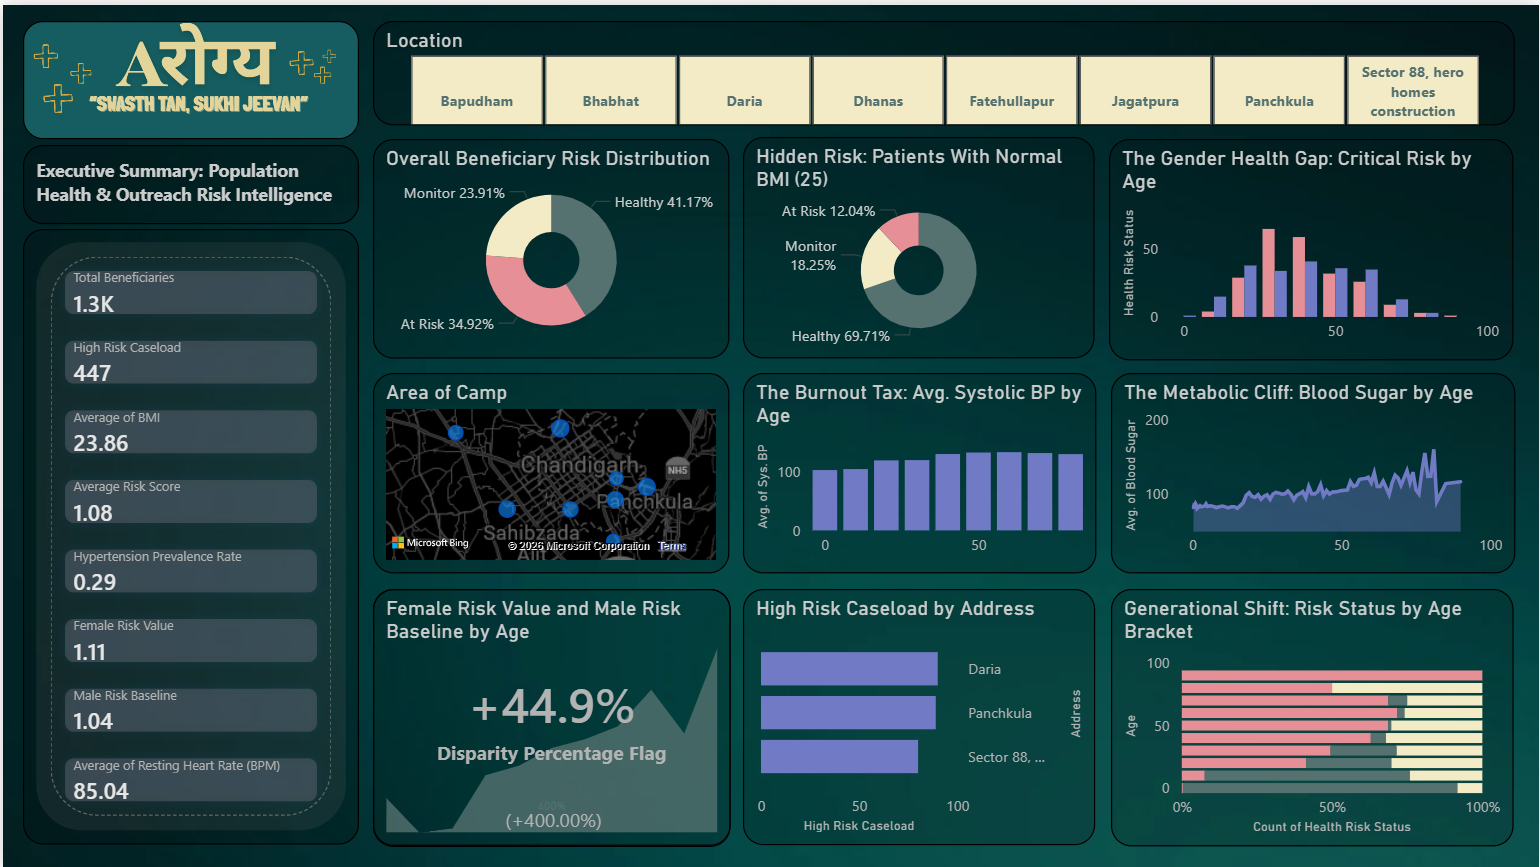

The page's visual inventory and layout, read from the dashboard file:
{"tool":"powerbi","page":{"name":"Page 1","canvas":[1280,720],"ordinal":0},"visuals":[{"type":"donutChart","title":"Overall Beneficiary Risk Distribution","fields":{"Category":["Sheet1.Health Risk Status"],"Y":["CountNonNull(Sheet1.Health Risk Status)"]},"box":[308.6,111.4,297.1,182.9],"z":0},{"type":"hundredPercentStackedBarChart","title":"Generational Shift: Risk Status by Age Bracket","fields":{"Category":["Sheet1.Age (bins)"],"Y":["CountNonNull(Sheet1.Health Risk Status)"],"Series":["Sheet1.Health Risk Status"]},"box":[922.7,486.4,335.5,214.5],"z":1000},{"type":"lineChart","title":"The Metabolic Cliff: Blood Sugar by Age","fields":{"Category":["Sheet1.Age"],"Y":["Avg(Sheet1.Blood Sugar)"]},"box":[922.9,307.1,337.1,167.1],"z":2000},{"type":"clusteredColumnChart","title":"The Gender Health Gap: Critical Risk by Age","fields":{"Category":["Sheet1.Age (bins)"],"Series":["Sheet1.Gender"],"Y":["CountNonNull(Sheet1.Health Risk Status)"]},"box":[921.4,111.4,337.1,184.3],"z":3000},{"type":"slicer","title":"Location","fields":{"Values":["Sheet1.Address"]},"box":[308.6,12.9,951.4,87],"z":4000},{"type":"map","title":"Area of Camp","fields":{"Y":["Sheet1 (4).Latitude"],"X":["Sheet1 (4).Longitute"],"Size":["CountNonNull(Sheet1.Health Risk Status)"]},"box":[308.6,307.1,297.1,167.1],"z":5000},{"type":"donutChart","title":"Hidden Risk: Patients With Normal BMI (25)","fields":{"Category":["Sheet1.Health Risk Status"],"Y":["CountNonNull(Sheet1.Health Risk Status)"]},"box":[616.7,110,292.9,184.3],"z":6000},{"type":"clusteredColumnChart","title":"The Burnout Tax: Avg. Systolic BP by Age","fields":{"Category":["Sheet1.Age (bins)"],"Y":["Avg(Sheet1.Systolic BP)"]},"box":[617.1,307.1,294.3,167.1],"z":7000},{"type":"cardVisual","fields":{"Data":["_Calculated Measures.'Total_Beneficiaries'","_Calculated Measures.High_Risk_Caseload","Avg(Sheet1 (4).BMI)","_Calculated Measures.Avg_Risk_Score","_Calculated Measures.Hypertension_Prevalence_Rate","_Calculated Measures.Female_Risk_Value","_Calculated Measures.Male_Risk_Baseline","Avg(Sheet1 (4).Resting Heart Rate (BPM))"]},"box":[17.1,187.1,280,512.9],"z":8000},{"type":"image","box":[16.7,13.3,280,98.3],"z":9000},{"type":"kpi","title":"Female Risk Value and Male Risk Baseline by Age","fields":{"Goal":["_Calculated Measures.Male Risk Baseline"],"Indicator":["_Calculated Measures.Female Risk Value"],"TrendLine":["Sheet1.Age (bins)"]},"box":[308,486,298,214],"z":10000},{"type":"clusteredBarChart","fields":{"Category":["Sheet1.Address"],"Y":["_Calculated Measures.High Risk Caseload"]},"box":[617.3,486.4,293.6,213.6],"z":11000},{"type":"textbox","box":[16.7,116.7,280,66],"z":12000},{"type":"cardVisual","fields":{"Data":["_Calculated Measures.Disparity Percentage Flag"]},"box":[308,486,298,215],"z":13000}]}

Visuals, with their boxes in screenshot pixels (x1, y1, x2, y2), scaled from the page's 1280x720 canvas onto the 1540x867 screenshot:
"Overall Beneficiary Risk Distribution" donutChart: [left=371, top=134, right=729, bottom=354]
"Generational Shift: Risk Status by Age Bracket" hundredPercentStackedBarChart: [left=1110, top=586, right=1514, bottom=844]
"The Metabolic Cliff: Blood Sugar by Age" lineChart: [left=1110, top=370, right=1516, bottom=571]
"The Gender Health Gap: Critical Risk by Age" clusteredColumnChart: [left=1109, top=134, right=1514, bottom=356]
"Location" slicer: [left=371, top=16, right=1516, bottom=120]
"Area of Camp" map: [left=371, top=370, right=729, bottom=571]
"Hidden Risk: Patients With Normal BMI (25)" donutChart: [left=742, top=132, right=1094, bottom=354]
"The Burnout Tax: Avg. Systolic BP by Age" clusteredColumnChart: [left=742, top=370, right=1097, bottom=571]
cardVisual - _Calculated Measures.'Total_Beneficiaries' x _Calculated Measures.High_Risk_Caseload: [left=21, top=225, right=357, bottom=843]
image: [left=20, top=16, right=357, bottom=134]
"Female Risk Value and Male Risk Baseline by Age" kpi: [left=371, top=585, right=729, bottom=843]
clusteredBarChart - Sheet1.Address x _Calculated Measures.High Risk Caseload: [left=743, top=586, right=1096, bottom=843]
textbox: [left=20, top=141, right=357, bottom=220]
cardVisual - _Calculated Measures.Disparity Percentage Flag: [left=371, top=585, right=729, bottom=844]
